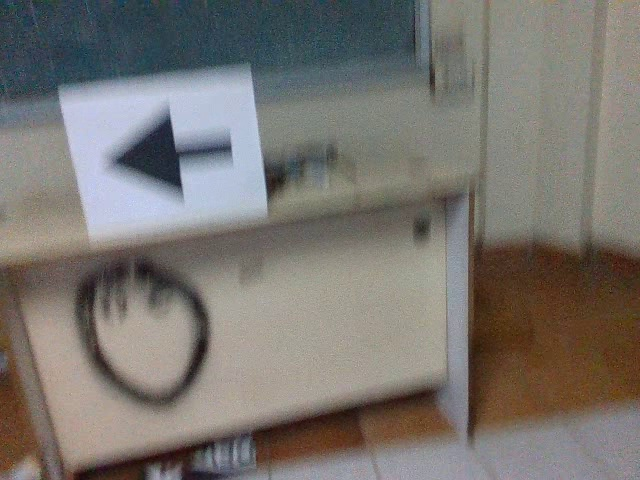Left: (90, 100, 238, 201)
